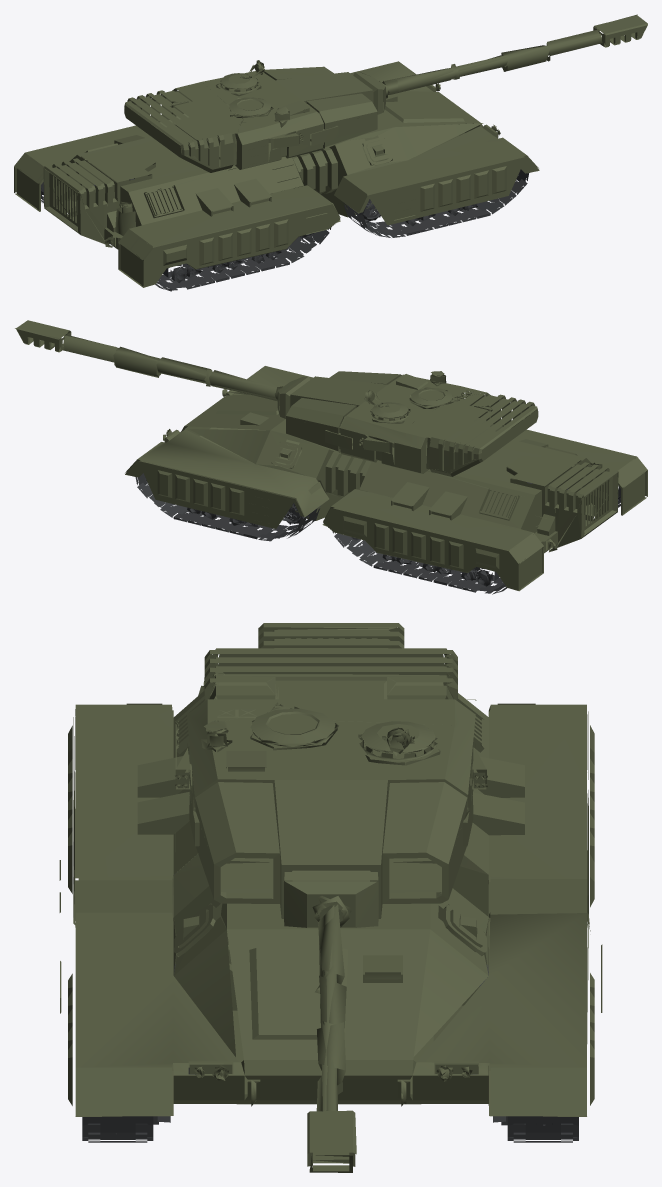
File: con_tank.glb
The picture shows the model from 3 angles, top to bottom: view 1: azimuth 30°, elevation 25°; view 2: azimuth 150°, elevation 25°; view 3: azimuth 270°, elevation 25°; orthographic projection. The views are drawn at different scales.
Parts seen in each view (by area): view 1: wanne, Turm1_lambert9_0, ketten; view 2: wanne, Turm1_lambert9_0, ketten; view 3: wanne, Turm1_lambert9_0, ketten.
Part boxes in pixels (bbox=[...]): wanne: bbox=[14, 61, 539, 287]; Turm1_lambert9_0: bbox=[124, 14, 647, 172]; ketten: bbox=[41, 169, 528, 291]; wanne: bbox=[125, 366, 647, 591]; Turm1_lambert9_0: bbox=[15, 320, 538, 476]; ketten: bbox=[135, 473, 620, 594]; wanne: bbox=[59, 623, 602, 1116]; Turm1_lambert9_0: bbox=[175, 648, 487, 1172]; ketten: bbox=[82, 872, 578, 1142].
Bounding box in the file's own units: 63.56 × 13.9 × 25.71.
